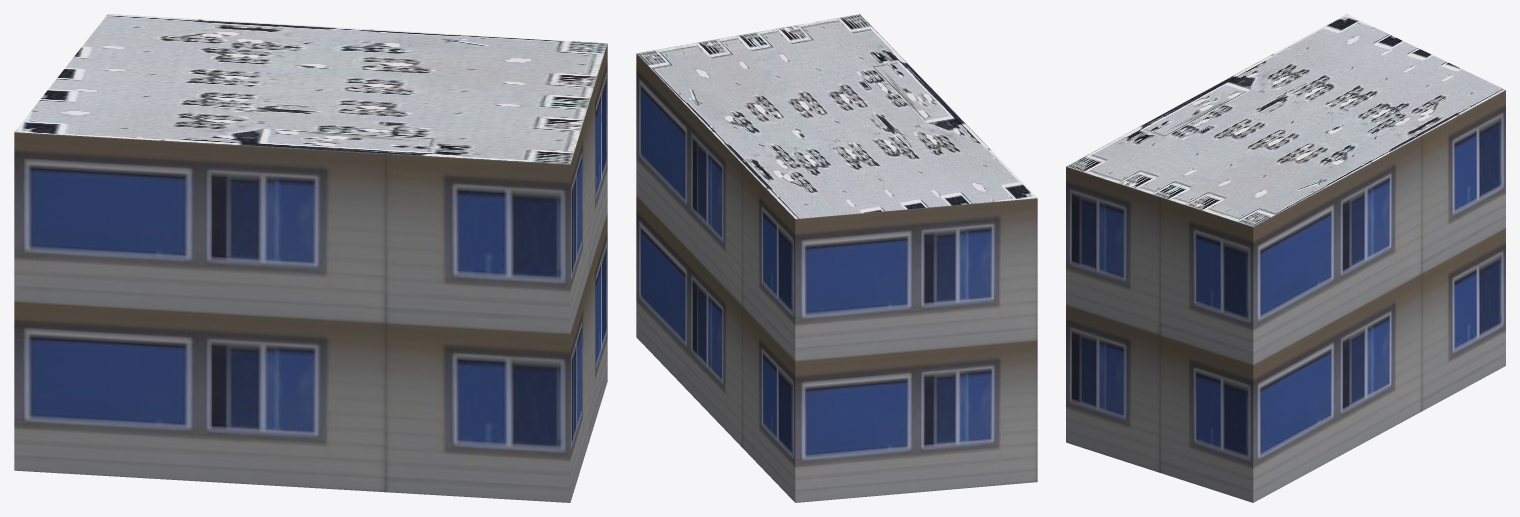
File: ResTex__192.fbx
The picture shows the model from 3 angles, left to right: view 1: azimuth 30°, elevation 25°; view 2: azimuth 150°, elevation 25°; view 3: azimuth 270°, elevation 25°; orthographic projection. The views are drawn at different scales.
Parts seen in each view (by area): view 1: CityEngineMaterial_23_m, CityEngineMaterial_4_m; view 2: CityEngineMaterial_23_m, CityEngineMaterial_4_m; view 3: CityEngineMaterial_23_m, CityEngineMaterial_4_m.
Part boxes in pixels (x1,y1,x2,y2): CityEngineMaterial_23_m: (14, 44, 607, 502); CityEngineMaterial_4_m: (14, 14, 607, 164); CityEngineMaterial_23_m: (636, 54, 1037, 502); CityEngineMaterial_4_m: (636, 14, 1037, 218); CityEngineMaterial_23_m: (1066, 90, 1505, 502); CityEngineMaterial_4_m: (1066, 14, 1505, 226).
Size of the model in its own units: 9.94 by 6 by 8.67.
Materials: 2 (2 with a texture image).
